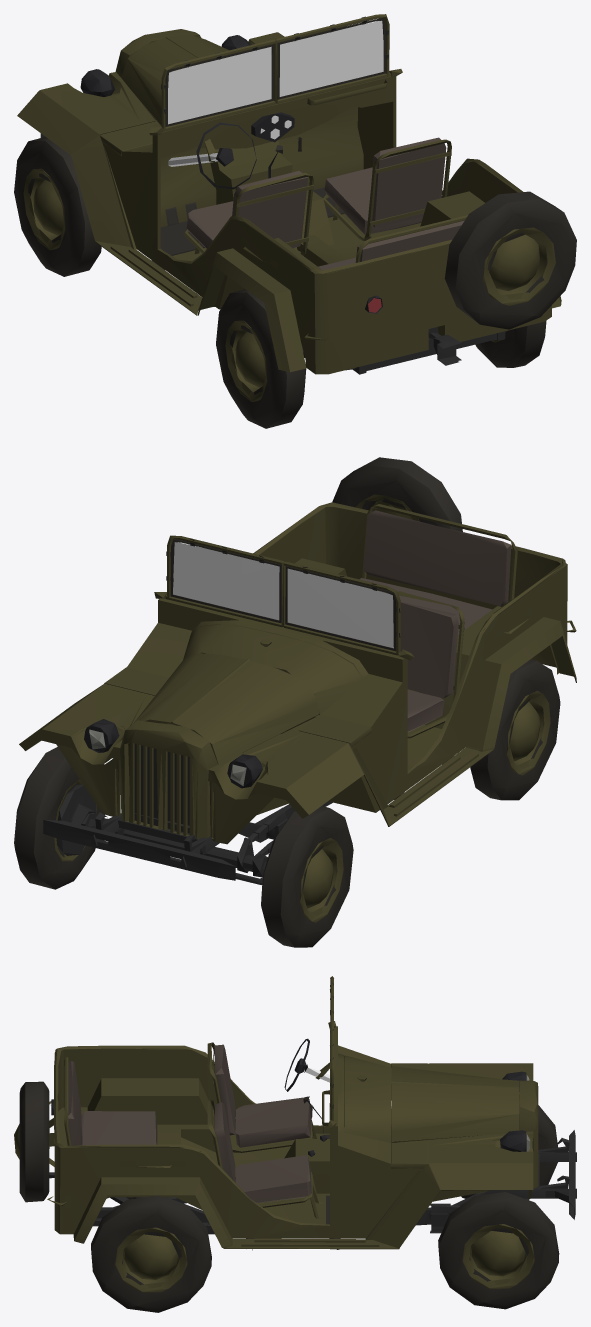
File: gaz67.obj
The picture shows the model from 3 angles, top to bottom: view 1: azimuth 30°, elevation 25°; view 2: azimuth 150°, elevation 25°; view 3: azimuth 270°, elevation 25°; orthographic projection. The views are drawn at different scales.
Visible parts, largest first — view 1: model; view 2: model; view 3: model.
Boxes of the visible parts, box(x1,y1,x2,y2) form: model: box(14, 14, 576, 428); model: box(14, 457, 576, 947); model: box(14, 976, 576, 1312).
Size of the model in its own units: 2 by 1.86 by 4.
